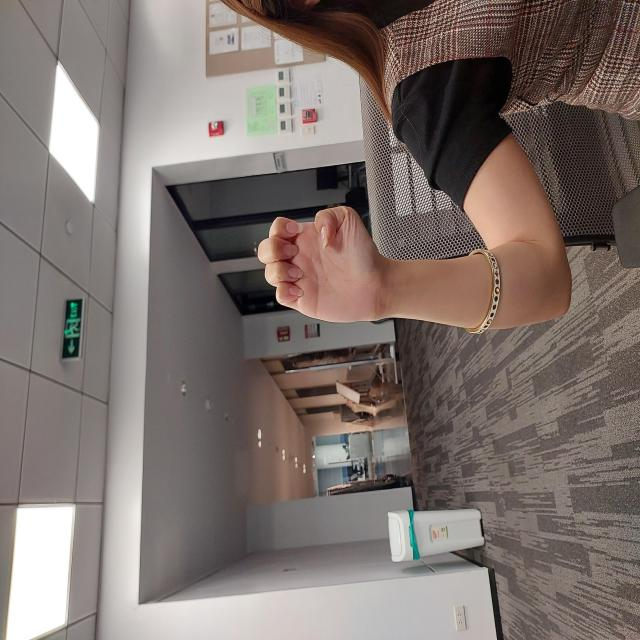E: (317, 256, 436, 393)
